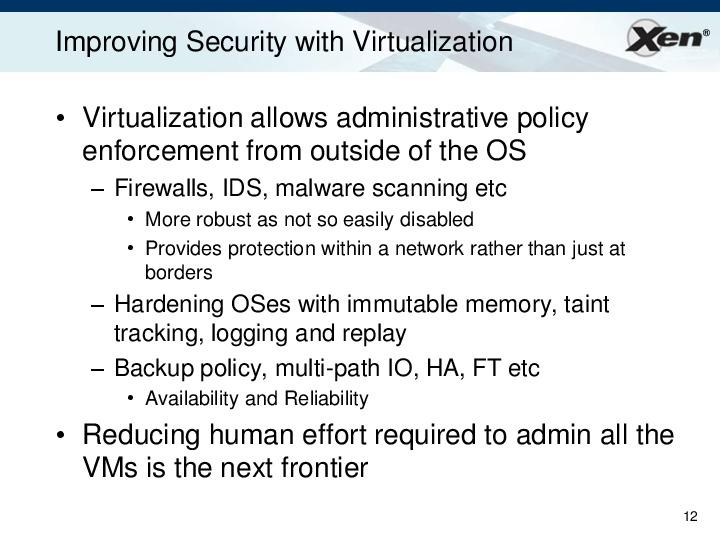paragraph: (51, 91, 694, 506)
title: (50, 16, 520, 66)
